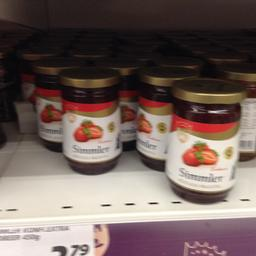jam: (164, 76, 246, 204), (55, 65, 121, 174), (134, 66, 174, 169)
